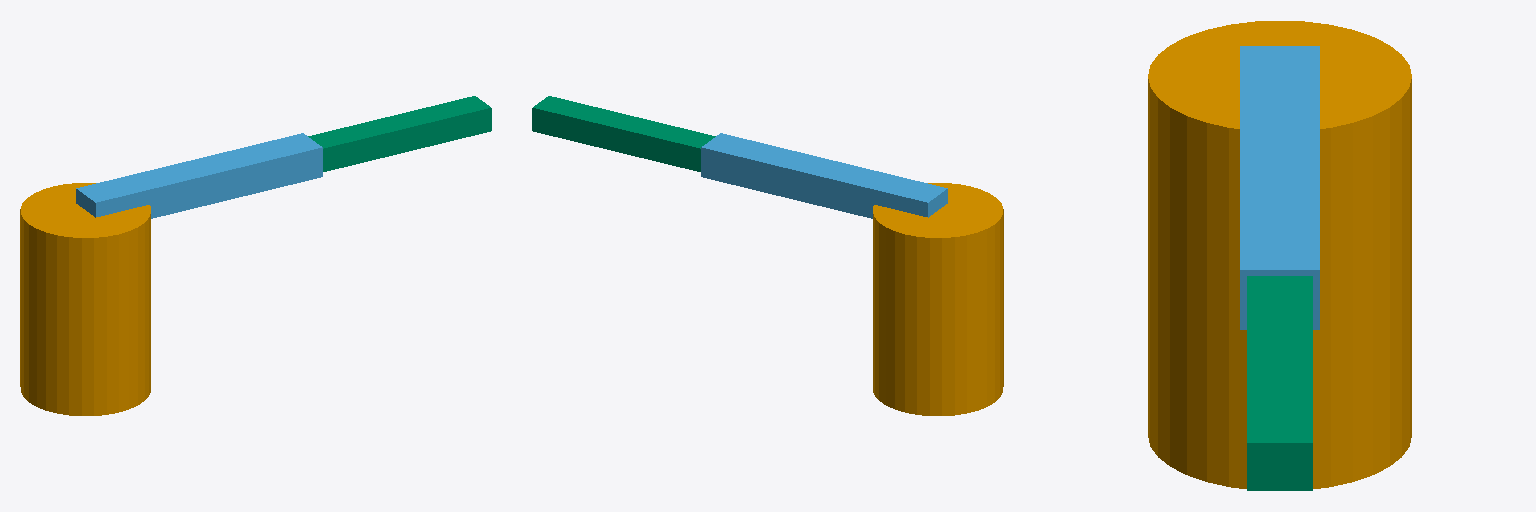
robot.urdf — planar_scara_arm:
<?xml version="1.0"?>
<robot name="planar_scara_arm">
  <link name="base_link">
    <inertial>
      <origin xyz="0 0 0.15" rpy="0 0 0"/>
      <mass value="8.5"/>
      <inertia ixx="0.08" ixy="0" ixz="0" iyy="0.08" iyz="0" izz="0.06"/>
    </inertial>
    <visual>
      <origin xyz="0 0 0.15" rpy="0 0 0"/>
      <geometry><cylinder radius="0.10" length="0.30"/></geometry>
    </visual>
    <collision>
      <origin xyz="0 0 0.15" rpy="0 0 0"/>
      <geometry><cylinder radius="0.10" length="0.30"/></geometry>
    </collision>
  </link>

  <link name="upper_arm">
    <inertial>
      <origin xyz="0.20 0 0" rpy="0 0 0"/>
      <mass value="2.4"/>
      <inertia ixx="0.012" ixy="0" ixz="0" iyy="0.035" iyz="0" izz="0.038"/>
    </inertial>
    <visual>
      <origin xyz="0.20 0 0" rpy="0 0 0"/>
      <geometry><box size="0.40 0.06 0.05"/></geometry>
    </visual>
    <collision>
      <origin xyz="0.20 0 0" rpy="0 0 0"/>
      <geometry><box size="0.40 0.06 0.05"/></geometry>
    </collision>
  </link>

  <link name="forearm">
    <inertial>
      <origin xyz="0.15 0 0" rpy="0 0 0"/>
      <mass value="1.6"/>
      <inertia ixx="0.008" ixy="0" ixz="0" iyy="0.020" iyz="0" izz="0.022"/>
    </inertial>
    <visual>
      <origin xyz="0.15 0 0" rpy="0 0 0"/>
      <geometry><box size="0.30 0.05 0.04"/></geometry>
    </visual>
    <collision>
      <origin xyz="0.15 0 0" rpy="0 0 0"/>
      <geometry><box size="0.30 0.05 0.04"/></geometry>
    </collision>
  </link>

  <joint name="shoulder_joint" type="revolute">
    <parent link="base_link"/>
    <child link="upper_arm"/>
    <origin xyz="0 0 0.30" rpy="0 0 0"/>
    <axis xyz="0 0 1"/>
    <limit lower="-2.356" upper="2.356" effort="45.0" velocity="3.14"/>
  </joint>

  <joint name="elbow_joint" type="revolute">
    <parent link="upper_arm"/>
    <child link="forearm"/>
    <origin xyz="0.40 0 0" rpy="0 0 0"/>
    <axis xyz="0 0 1"/>
    <limit lower="-2.618" upper="2.618" effort="25.0" velocity="4.50"/>
  </joint>
</robot>

--- Facts derived from the render (not from the file) ---
Views: 3 orthographic renders of the robot side by side, from view 1: azimuth 30°, elevation 25°; view 2: azimuth 150°, elevation 25°; view 3: azimuth 270°, elevation 25°.
Model planar_scara_arm with 3 links and 2 joints (2 revolute), rooted at base_link, posed all joints at 0.
Visible links, largest first — view 1: base_link, upper_arm, forearm; view 2: base_link, upper_arm, forearm; view 3: base_link, upper_arm, forearm.
Link boxes in pixels (x1,y1,x2,y2): base_link: (20, 183, 150, 415); upper_arm: (76, 133, 322, 218); forearm: (308, 96, 491, 171); base_link: (873, 183, 1003, 415); upper_arm: (701, 133, 947, 218); forearm: (532, 96, 715, 171); base_link: (1148, 21, 1411, 488); upper_arm: (1240, 46, 1319, 329); forearm: (1247, 276, 1312, 490).
Size in the robot's own frame: 0.8 by 0.2 by 0.325 metres.
Geometry: primitives only (box / cylinder / sphere), no mesh files.
